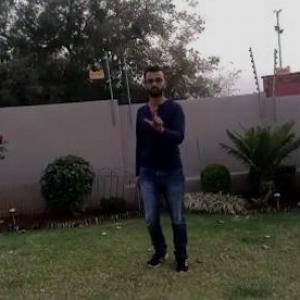land_hand: (146, 100, 168, 133)
